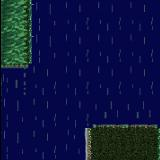Interaction: (20, 0, 38, 77), (0, 58, 19, 76)
Slow: (34, 0, 160, 70), (0, 70, 160, 124), (0, 127, 82, 160), (0, 0, 28, 64)
